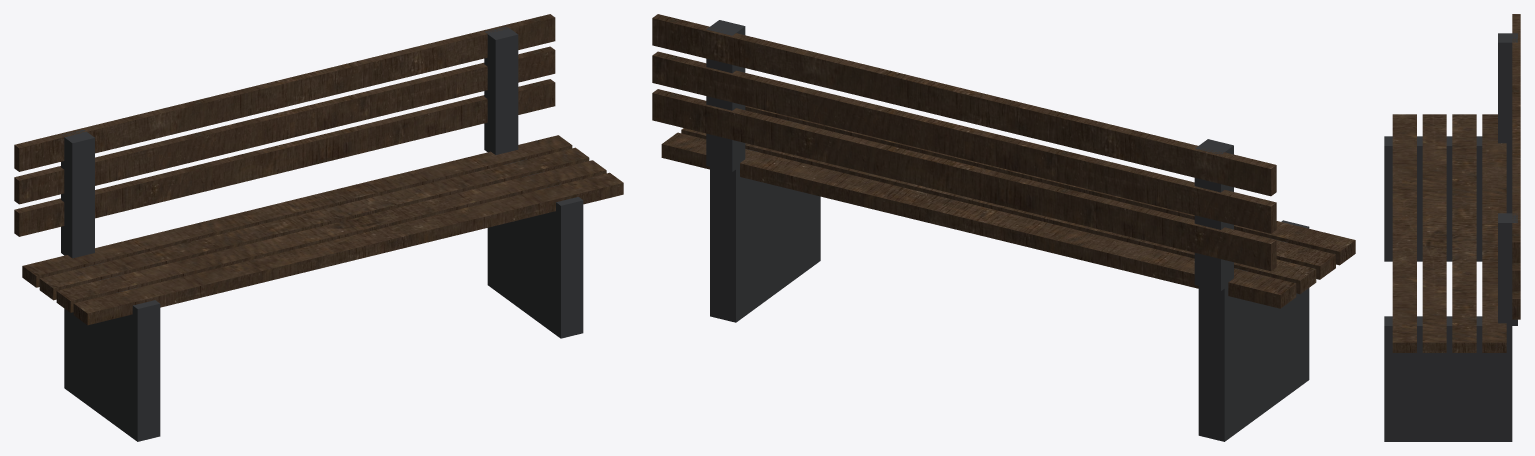
The model's file is prop_bench.gltf.
The picture shows the model from 3 angles, left to right: view 1: azimuth 30°, elevation 25°; view 2: azimuth 150°, elevation 25°; view 3: azimuth 270°, elevation 25°; orthographic projection. The views are drawn at different scales.
Parts seen in each view (by area): view 1: prop_bench; view 2: prop_bench; view 3: prop_bench.
Boxes of the visible parts, x1=… form: prop_bench: x1=14, y1=14, x2=623, y2=441; prop_bench: x1=652, y1=14, x2=1355, y2=441; prop_bench: x1=1384, y1=14, x2=1520, y2=441.
Size of what is drawn, in the model's own units: 1.9 by 0.85 by 0.48.
2 materials, 1 textured.
